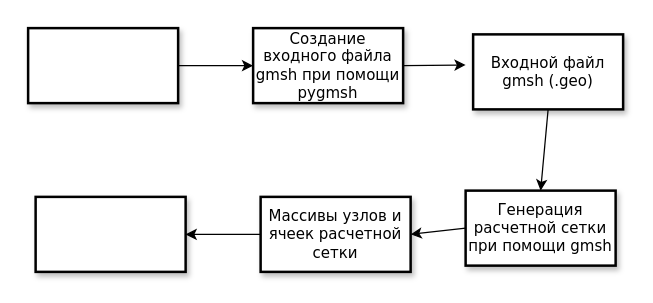
Some shapes in this 653 by 303 pixel diagram are drawn without their labels. Here are the shapes that lost their labels. From the top down, the centre of each, then its label:
the point at 103,66: Входные параметры
the point at 111,235: Сохранение расчетной сетки в файл формата xml
